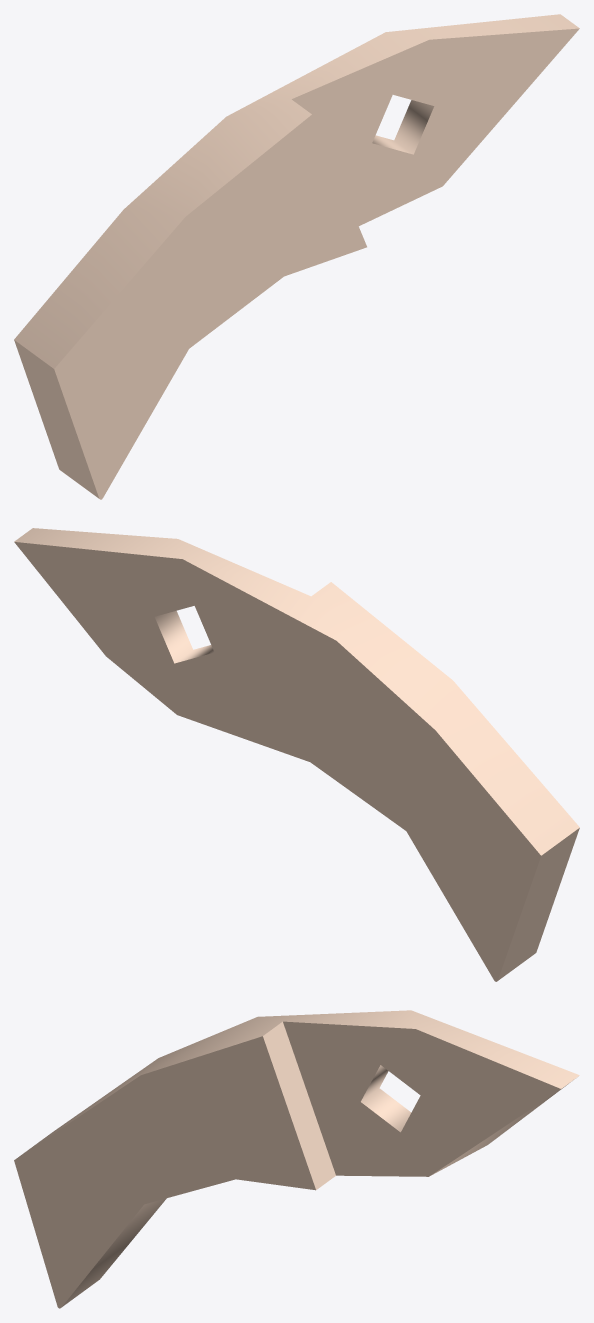
File: Cliquet barillet Quarts.obj
3 views of the same model, one above another, from view 1: azimuth 30°, elevation 25°; view 2: azimuth 150°, elevation 25°; view 3: azimuth 330°, elevation 25° (orthographic). The views are drawn at different scales.
Parts seen in each view (by area): view 1: Face_2, Face_7, Face_5, Face_6, Face_1; view 2: Face_3, Face_5, Face_6, Face_1; view 3: Face_2, Face_7, Face_5, Face_8, Face_4, Face_1.
Boxes of the visible parts, x1,y1,x2,y2 form: Face_2: (54,115,366,499); Face_7: (292,28,579,225); Face_5: (14,14,579,368); Face_6: (14,340,98,498); Face_1: (372,100,434,154); Face_3: (14,542,540,981); Face_5: (14,528,579,855); Face_6: (497,828,579,980); Face_1: (154,610,214,663); Face_2: (14,1036,315,1308); Face_7: (283,1021,560,1176); Face_5: (16,1010,579,1158); Face_8: (263,1021,335,1189); Face_4: (61,1082,570,1307); Face_1: (361,1065,411,1132).
Size of the model in its own units: 0.0275 by 0.0173 by 0.0035.
